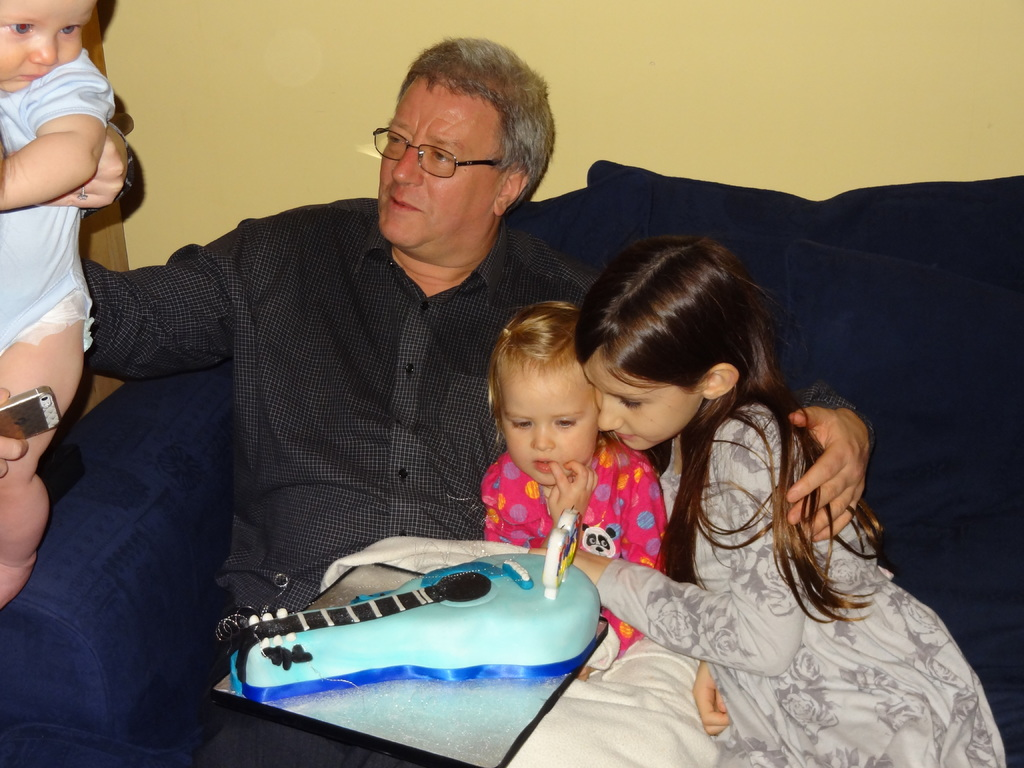cake: (232, 553, 604, 706)
